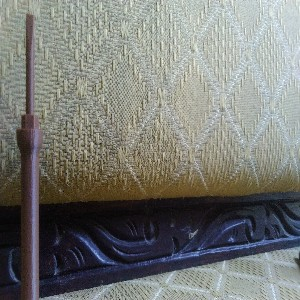obeng: (15, 12, 45, 300)
